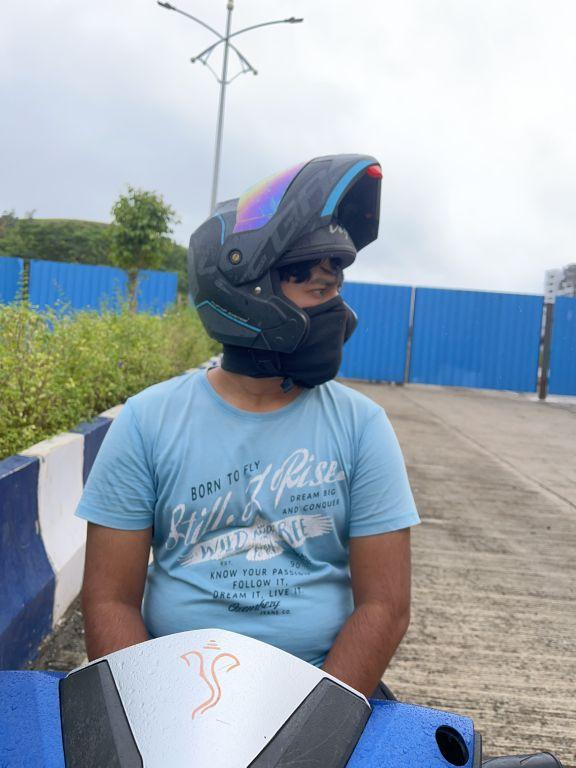helmet: (179, 125, 386, 390)
